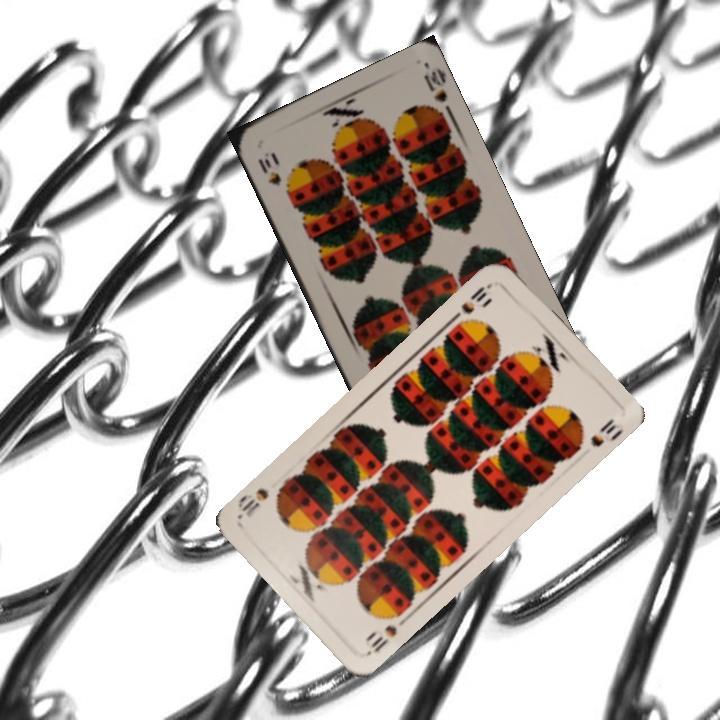S10: (363, 608, 411, 658), (456, 278, 495, 317), (253, 154, 284, 189)
